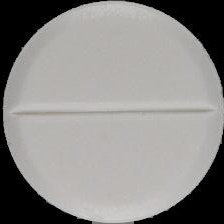60429-131: (0, 0, 224, 224)
